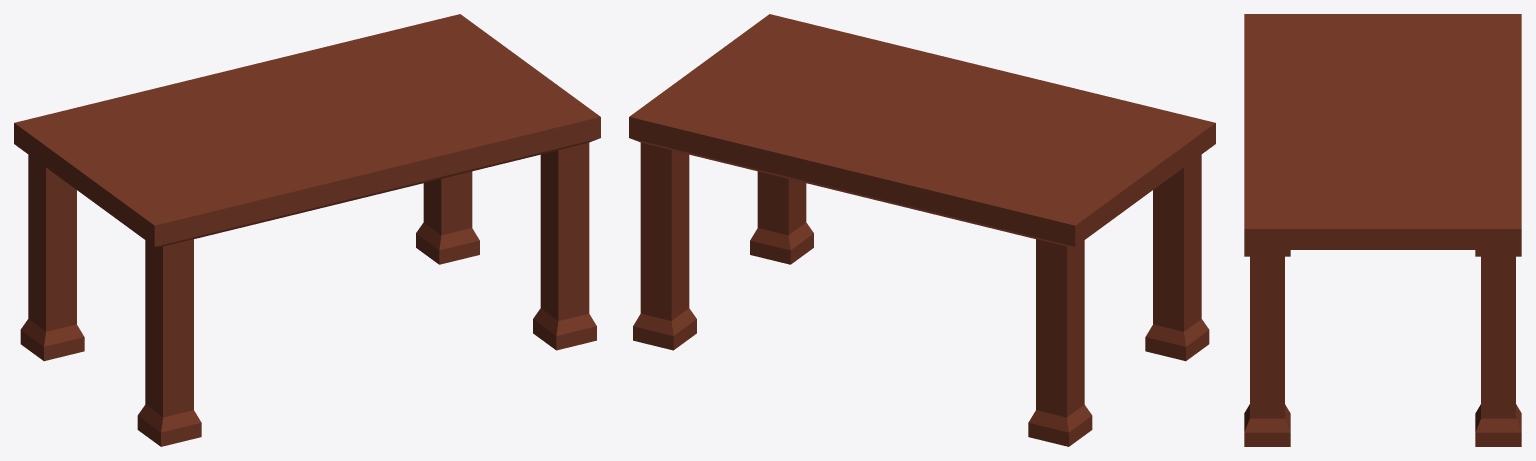
File: very_low_poly_table.glb
3 renders of one model, left to right at view 1: azimuth 30°, elevation 25°; view 2: azimuth 150°, elevation 25°; view 3: azimuth 270°, elevation 25°, orthographic.
Parts seen in each view (by area): view 1: Cube.004_4, Cube.005_5, Cube.003_7, Cube.001_6, Cube.002_3; view 2: Cube.004_4, Cube.002_3, Cube.001_6, Cube.003_7, Cube.005_5; view 3: Cube.004_4, Cube.002_3, Cube.005_5.
Boxes of the visible parts, bbox=[...] form: Cube.004_4: bbox=[14, 14, 600, 246]; Cube.005_5: bbox=[533, 142, 596, 350]; Cube.003_7: bbox=[137, 239, 201, 446]; Cube.001_6: bbox=[20, 154, 84, 361]; Cube.002_3: bbox=[416, 171, 479, 264]; Cube.004_4: bbox=[629, 14, 1215, 246]; Cube.002_3: bbox=[633, 142, 696, 350]; Cube.001_6: bbox=[1028, 239, 1092, 446]; Cube.003_7: bbox=[1145, 154, 1209, 361]; Cube.005_5: bbox=[750, 171, 813, 264]; Cube.004_4: bbox=[1244, 14, 1521, 249]; Cube.002_3: bbox=[1475, 250, 1521, 446]; Cube.005_5: bbox=[1244, 250, 1290, 446].
Bounding box in the file's own units: 4.4 × 2.1 × 2.4.
